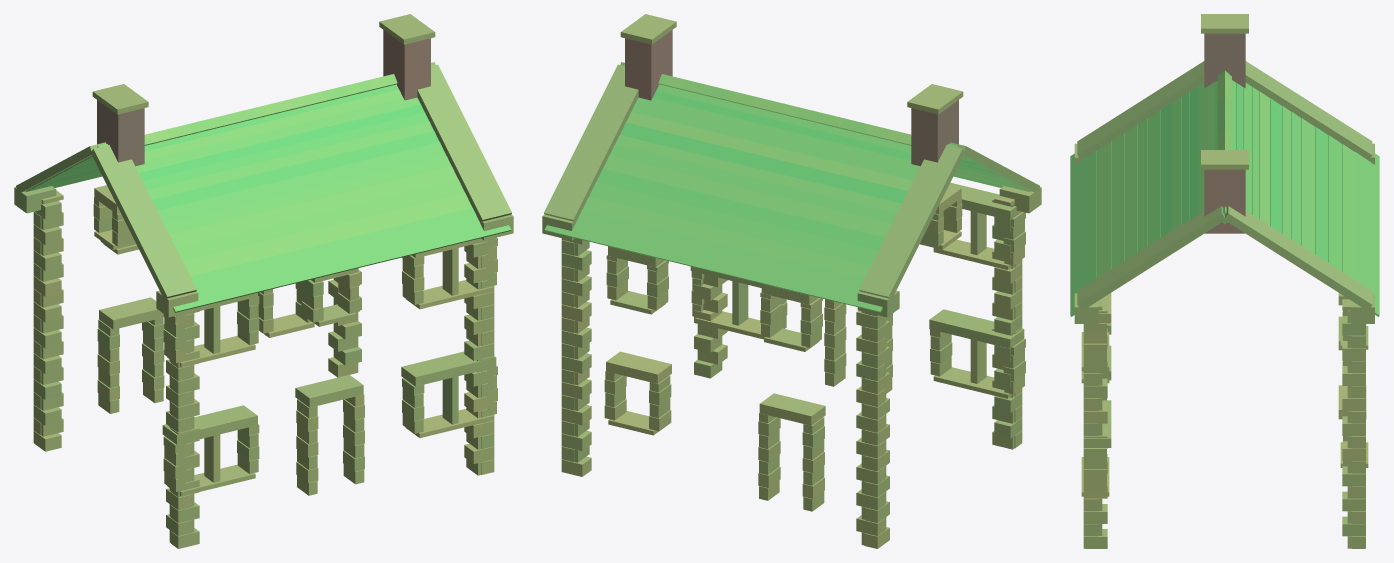
The model's file is SM_Bld_142_Stone.glb.
3 renders of one model, left to right at view 1: azimuth 30°, elevation 25°; view 2: azimuth 150°, elevation 25°; view 3: azimuth 270°, elevation 25°, orthographic. The views are drawn at different scales.
Visible parts, largest first — view 1: SM_Bld_142_Stone; view 2: SM_Bld_142_Stone; view 3: SM_Bld_142_Stone.
Part boxes in pixels (bbox=[...]): SM_Bld_142_Stone: bbox=[14, 14, 513, 548]; SM_Bld_142_Stone: bbox=[542, 14, 1041, 548]; SM_Bld_142_Stone: bbox=[1070, 14, 1379, 548].
Size of the model in its own units: 8.39 by 9.2 by 6.7.
